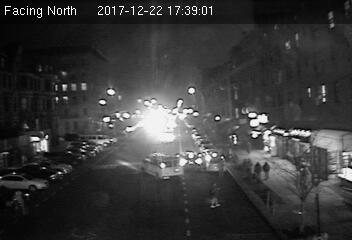car: (178, 151, 204, 170), (205, 155, 226, 171)
pedestrian: (253, 160, 262, 185), (262, 162, 270, 182)
